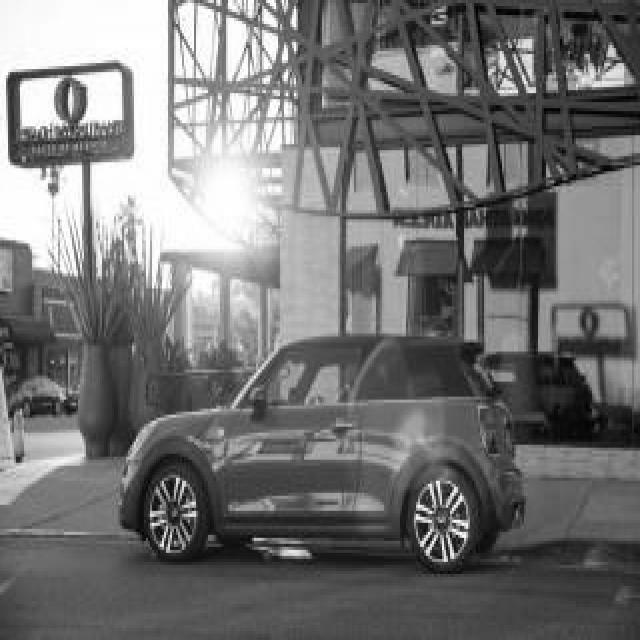Car: (120, 340, 525, 572)
